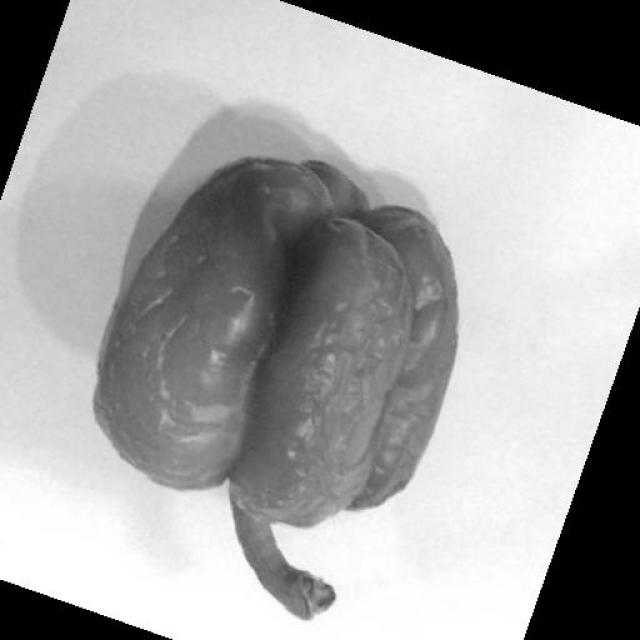Stale_Capsicum: (82, 142, 444, 524)
